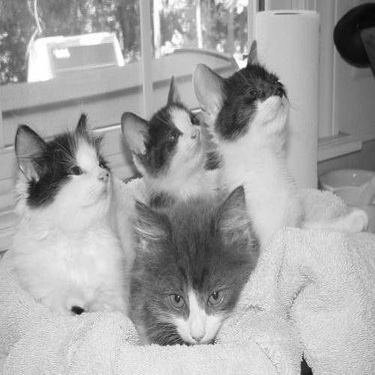cat: (12, 112, 122, 323), (195, 39, 303, 232), (130, 184, 259, 344), (123, 76, 207, 180)
